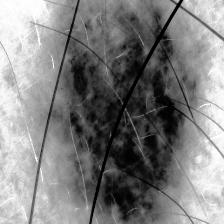Benign Marking or Mole: (56, 2, 194, 224)
